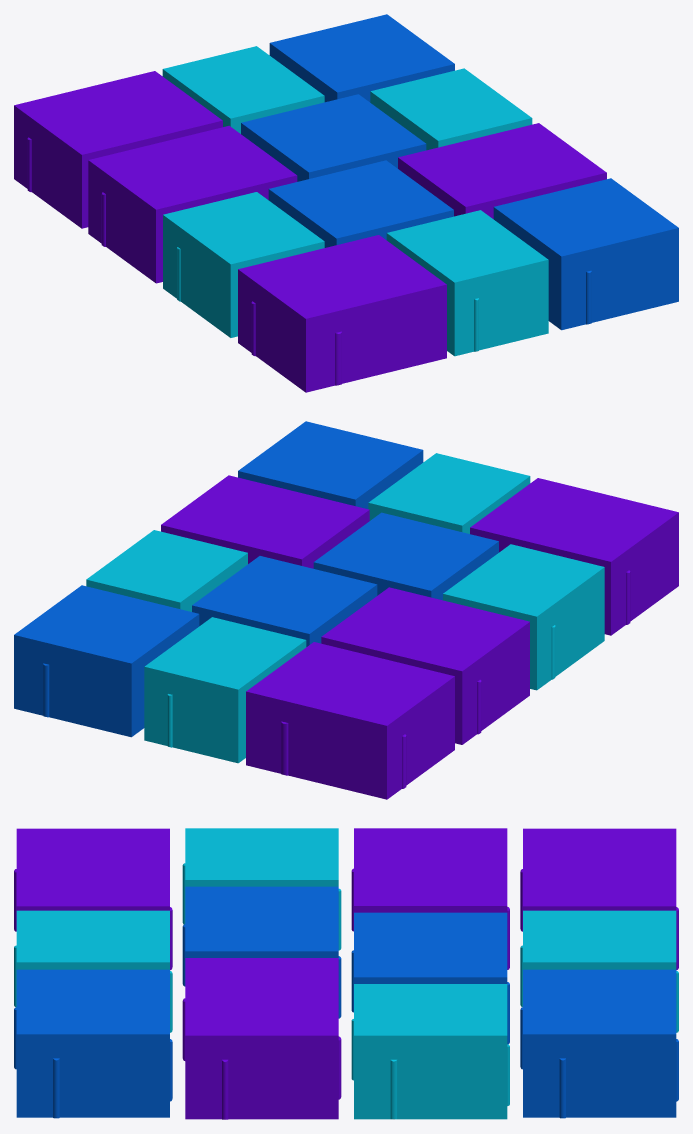
The picture shows the model from 3 angles, top to bottom: view 1: azimuth 30°, elevation 25°; view 2: azimuth 150°, elevation 25°; view 3: azimuth 270°, elevation 25°; orthographic projection. The views are drawn at different scales.
Parts seen in each view (by area): view 1: Брусчатка 120*100*60.001, Брусчатка 100*100*60.002, Брусчатка 120*100*60.005, Брусчатка 120*100*60.011, Брусчатка 80*100*60 .001, Брусчатка 80*100*60 .007, Брусчатка 120*100*60.008, Брусчатка 100*100*60.010, Брусчатка 100*100*60.003, Брусчатка 100*100*60.008, Брусчатка 80*100*60 .005, Брусчатка 80*100*60 .010; view 2: Брусчатка 120*100*60.011, Брусчатка 100*100*60.010, Брусчатка 120*100*60.001, Брусчатка 120*100*60.005, Брусчатка 80*100*60 .010, Брусчатка 80*100*60 .007, Брусчатка 120*100*60.008, Брусчатка 100*100*60.003, Брусчатка 100*100*60.002, Брусчатка 100*100*60.008, Брусчатка 80*100*60 .005, Брусчатка 80*100*60 .001; view 3: Брусчатка 120*100*60.008, Брусчатка 100*100*60.002, Брусчатка 100*100*60.010, Брусчатка 80*100*60 .005, Брусчатка 120*100*60.005, Брусчатка 120*100*60.011, Брусчатка 120*100*60.001, Брусчатка 100*100*60.008, Брусчатка 100*100*60.003, Брусчатка 80*100*60 .010, Брусчатка 80*100*60 .001, Брусчатка 80*100*60 .007.
Boxes of the visible parts, x1,y1,x2,y2 form: Брусчатка 120*100*60.001: (238, 235, 446, 392); Брусчатка 100*100*60.002: (493, 178, 678, 330); Брусчатка 120*100*60.005: (88, 125, 297, 283); Брусчатка 120*100*60.011: (14, 71, 222, 228); Брусчатка 80*100*60 .001: (386, 210, 548, 356); Брусчатка 80*100*60 .007: (163, 192, 324, 337); Брусчатка 120*100*60.008: (398, 123, 606, 218); Брусчатка 100*100*60.010: (269, 14, 454, 102); Брусчатка 100*100*60.003: (241, 94, 426, 181); Брусчатка 100*100*60.008: (268, 160, 453, 247); Брусчатка 80*100*60 .005: (370, 68, 532, 150); Брусчатка 80*100*60 .010: (162, 46, 324, 133); Брусчатка 120*100*60.011: (246, 642, 454, 799); Брусчатка 100*100*60.010: (14, 585, 199, 737); Брусчатка 120*100*60.001: (470, 478, 678, 635); Брусчатка 120*100*60.005: (321, 587, 529, 744); Брусчатка 80*100*60 .010: (144, 617, 306, 763); Брусчатка 80*100*60 .007: (443, 544, 604, 690); Брусчатка 120*100*60.008: (161, 475, 369, 568); Брусчатка 100*100*60.003: (192, 556, 377, 646); Брусчатка 100*100*60.002: (238, 421, 423, 508); Брусчатка 100*100*60.008: (313, 512, 498, 600); Брусчатка 80*100*60 .005: (86, 530, 247, 611); Брусчатка 80*100*60 .001: (368, 453, 530, 533); Брусчатка 120*100*60.008: (182, 958, 341, 1119); Брусчатка 100*100*60.002: (14, 969, 172, 1118); Брусчатка 100*100*60.010: (520, 969, 678, 1118); Брусчатка 80*100*60 .005: (351, 984, 509, 1119); Брусчатка 120*100*60.005: (351, 828, 509, 969); Брусчатка 120*100*60.011: (520, 828, 678, 970); Брусчатка 120*100*60.001: (14, 828, 172, 970); Брусчатка 100*100*60.008: (182, 886, 341, 1018); Брусчатка 100*100*60.003: (351, 912, 509, 1044); Брусчатка 80*100*60 .010: (520, 910, 678, 1032); Брусчатка 80*100*60 .001: (14, 910, 172, 1032); Брусчатка 80*100*60 .007: (182, 828, 341, 950).
Size of the model in its own units: 6.48 by 1.2 by 8.67.
